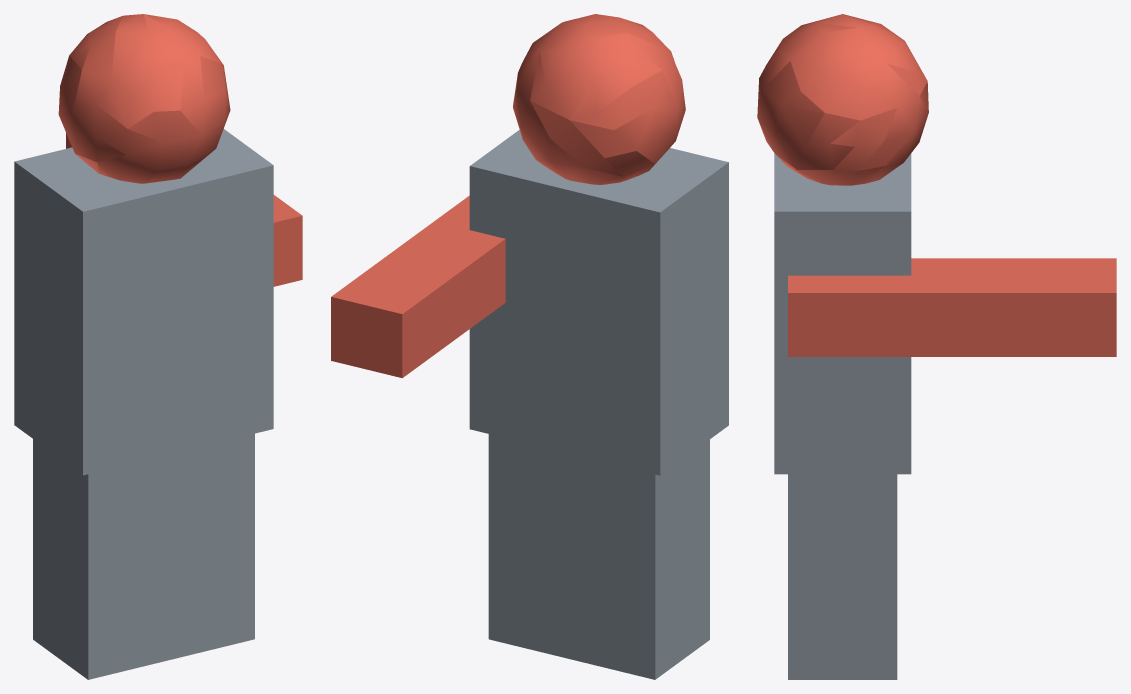
File: SU_ZapalGrenadier_LOD2.glb
3 views of the same model, side by side, from view 1: azimuth 30°, elevation 25°; view 2: azimuth 150°, elevation 25°; view 3: azimuth 270°, elevation 25° (orthographic).
Parts seen in each view (by area): view 1: Head; view 2: Head; view 3: Head.
Boxes of the visible parts, box(x1,y1,x2,y2) form: Head: box(14, 14, 302, 679); Head: box(331, 14, 728, 679); Head: box(757, 14, 1116, 679).
Size of the model in its own units: 66.5 by 173 by 91.81.
